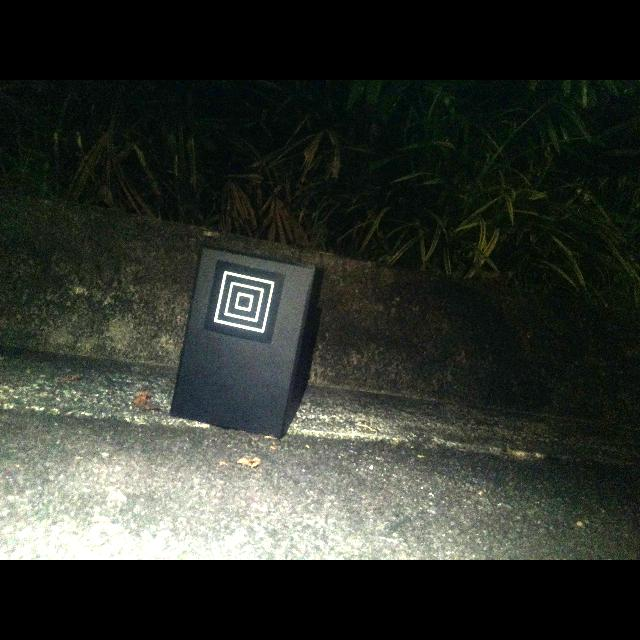BULLSEYE: (215, 271, 274, 331)
